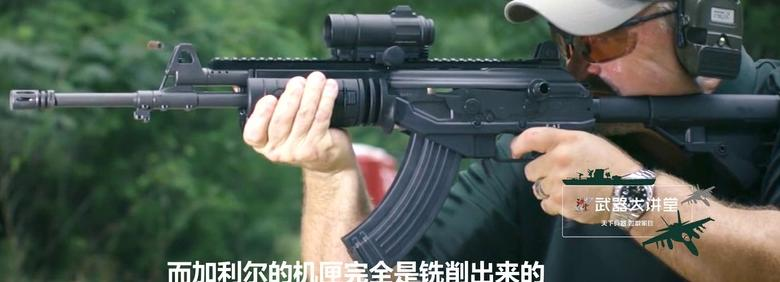gun: (1, 1, 780, 282)
